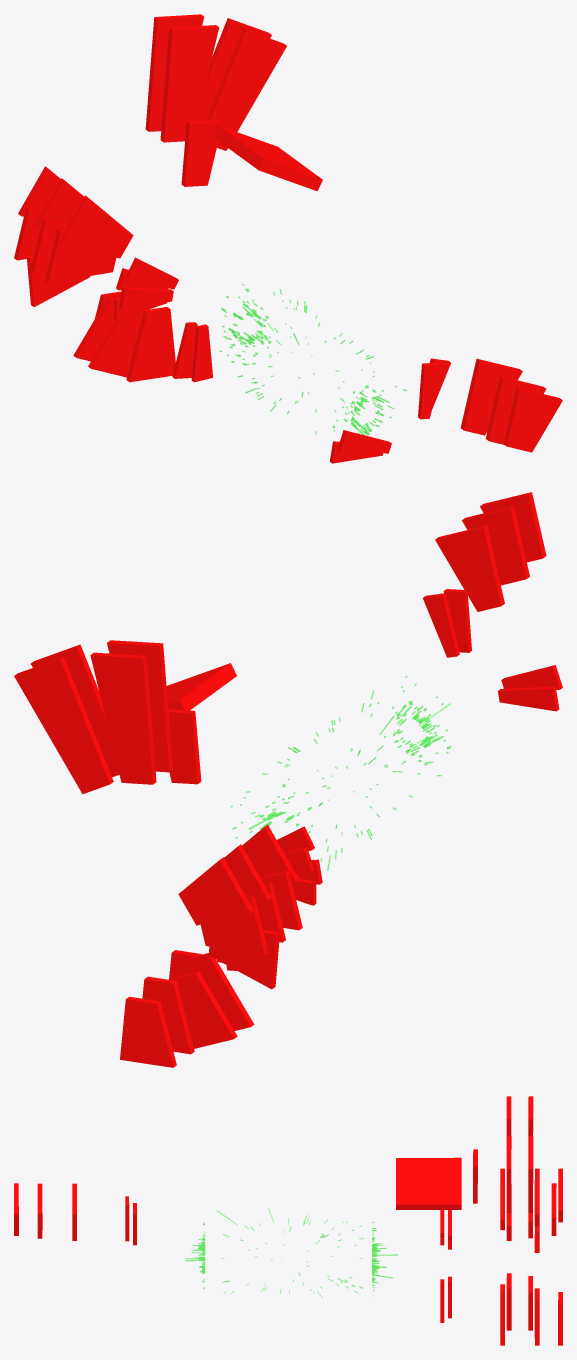
The picture shows the model from 3 angles, top to bottom: view 1: azimuth 30°, elevation 25°; view 2: azimuth 150°, elevation 25°; view 3: azimuth 270°, elevation 25°; orthographic projection. The views are drawn at different scales.
Visible parts, largest first — view 1: MuonChambers_V1, EERecHits_V2, EBRecHits_V2; view 2: MuonChambers_V1, EERecHits_V2, EBRecHits_V2; view 3: MuonChambers_V1, EERecHits_V2, EBRecHits_V2.
Boxes of the visible parts, x1,y1,x2,y2 form: MuonChambers_V1: [14, 14, 562, 463]; EERecHits_V2: [221, 283, 406, 435]; EBRecHits_V2: [219, 289, 394, 443]; MuonChambers_V1: [14, 492, 562, 1067]; EERecHits_V2: [230, 675, 451, 839]; EBRecHits_V2: [246, 690, 450, 870]; MuonChambers_V1: [14, 1096, 562, 1345]; EERecHits_V2: [185, 1221, 398, 1296]; EBRecHits_V2: [217, 1208, 363, 1298].
Size of what is drawn, in the model's own units: 7.68 by 10.5 by 20.92.
